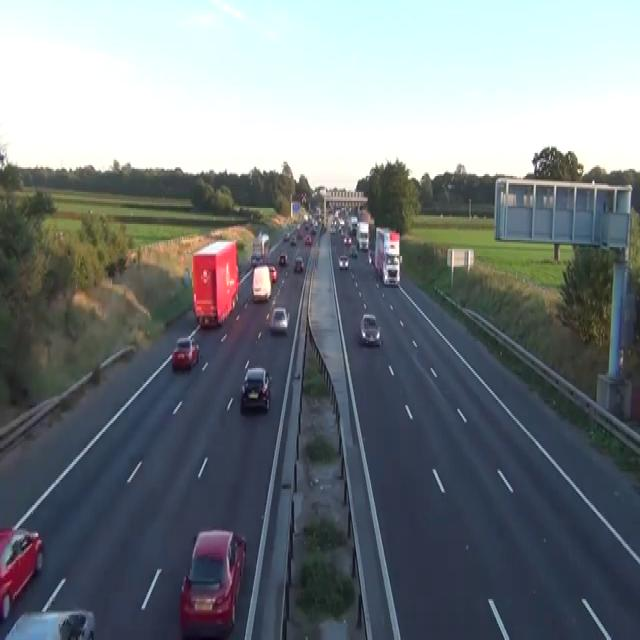Car: (179, 528, 246, 638), (4, 578, 95, 638), (0, 524, 43, 620), (4, 608, 95, 638), (240, 367, 271, 412), (172, 336, 199, 370), (359, 313, 382, 347), (382, 251, 401, 286), (269, 306, 289, 332), (338, 254, 349, 270), (293, 256, 304, 272), (250, 252, 262, 266), (268, 265, 278, 281), (257, 230, 269, 243), (367, 243, 374, 265), (182, 266, 190, 284), (278, 252, 287, 265), (349, 245, 358, 258), (304, 233, 312, 245), (343, 234, 352, 243), (296, 226, 302, 238), (289, 235, 296, 245), (283, 231, 290, 240), (367, 251, 372, 263), (329, 224, 335, 233), (310, 226, 316, 234)
Truck: (191, 238, 238, 327), (373, 226, 402, 286), (250, 229, 269, 267), (252, 265, 271, 300), (355, 220, 369, 250)
